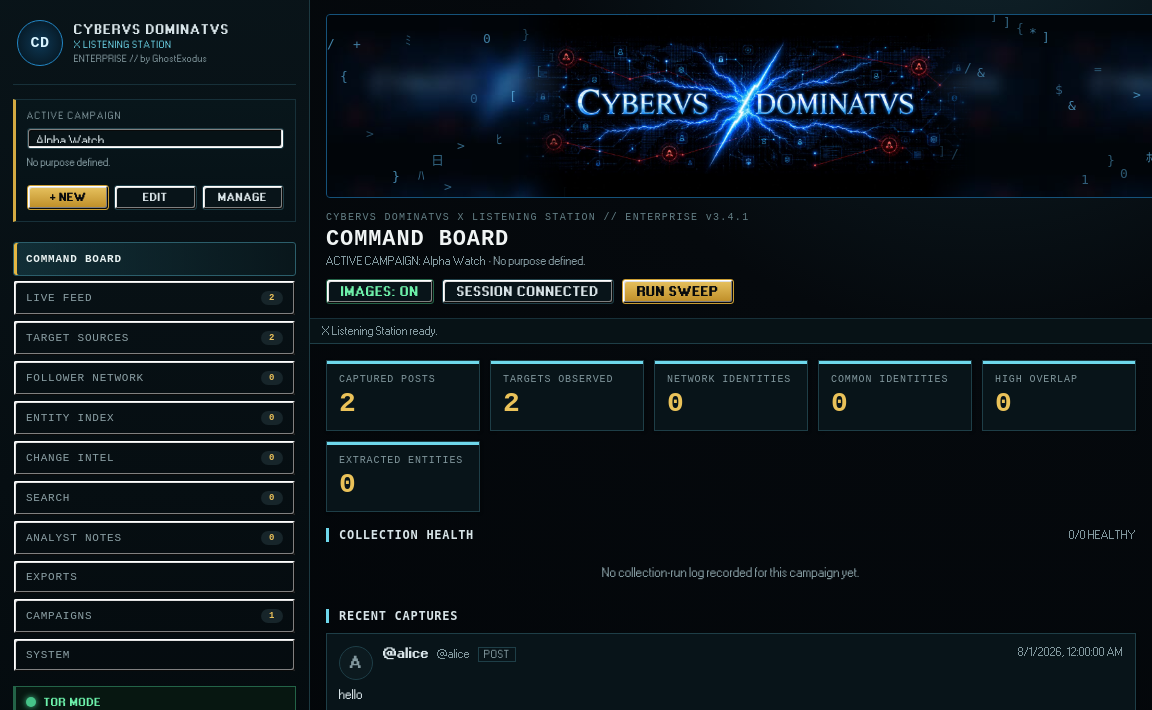
X Listening Station — Target Sources per-source actions (Task D1) › NETWORK switches to the Network tab with the source pre-selected as TARGET SOURCE
This screenshot has width=1152, height=710.
Click the button with class "xls-tab" showing "TARGET SOURCES 2". click: coordinates (78, 338)
box: [13,320,296,356]
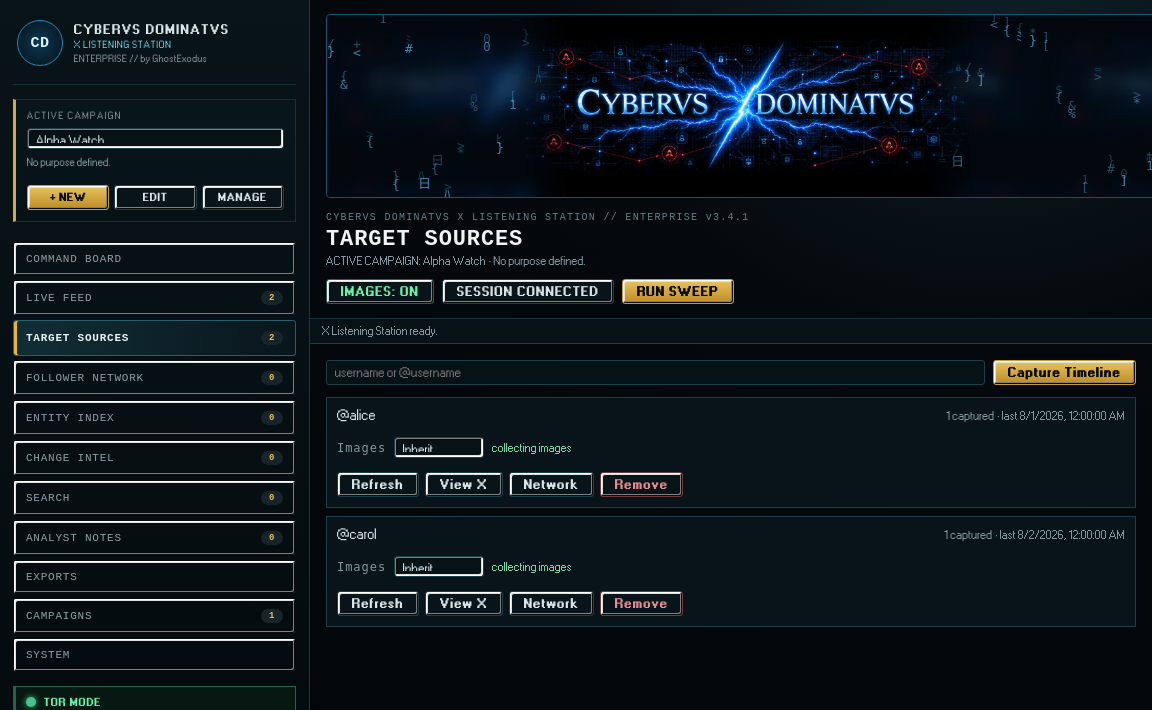
Click the button "Network" below "@carol". click: coordinates (552, 604)
box: [509,591,594,616]
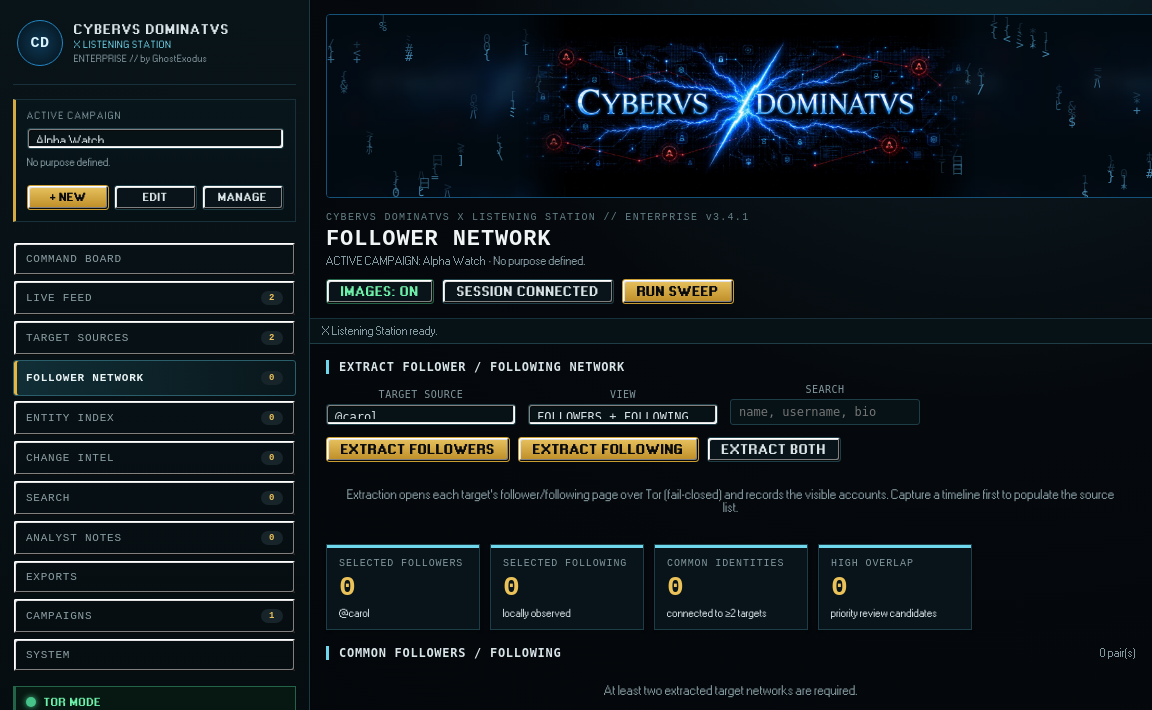
Result: the dropdown labelled "TARGET SOURCE" shows "@carol" at [326,404,516,425]
